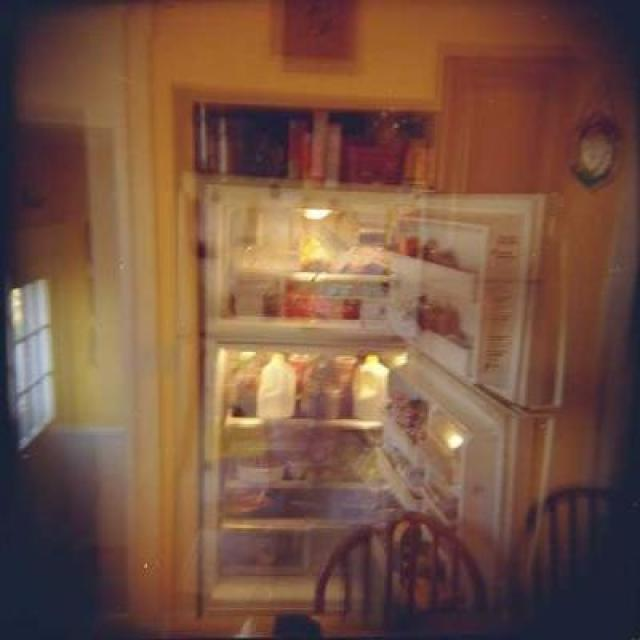refrigerator: (204, 188, 443, 612)
